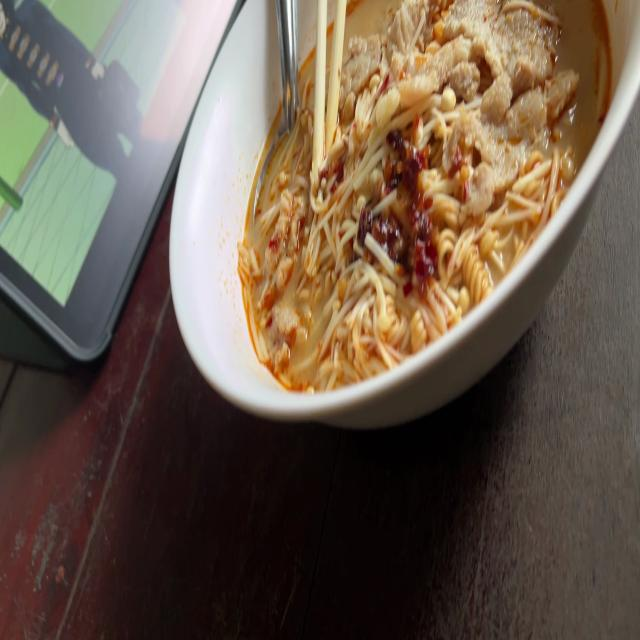noodle: (230, 0, 640, 412)
